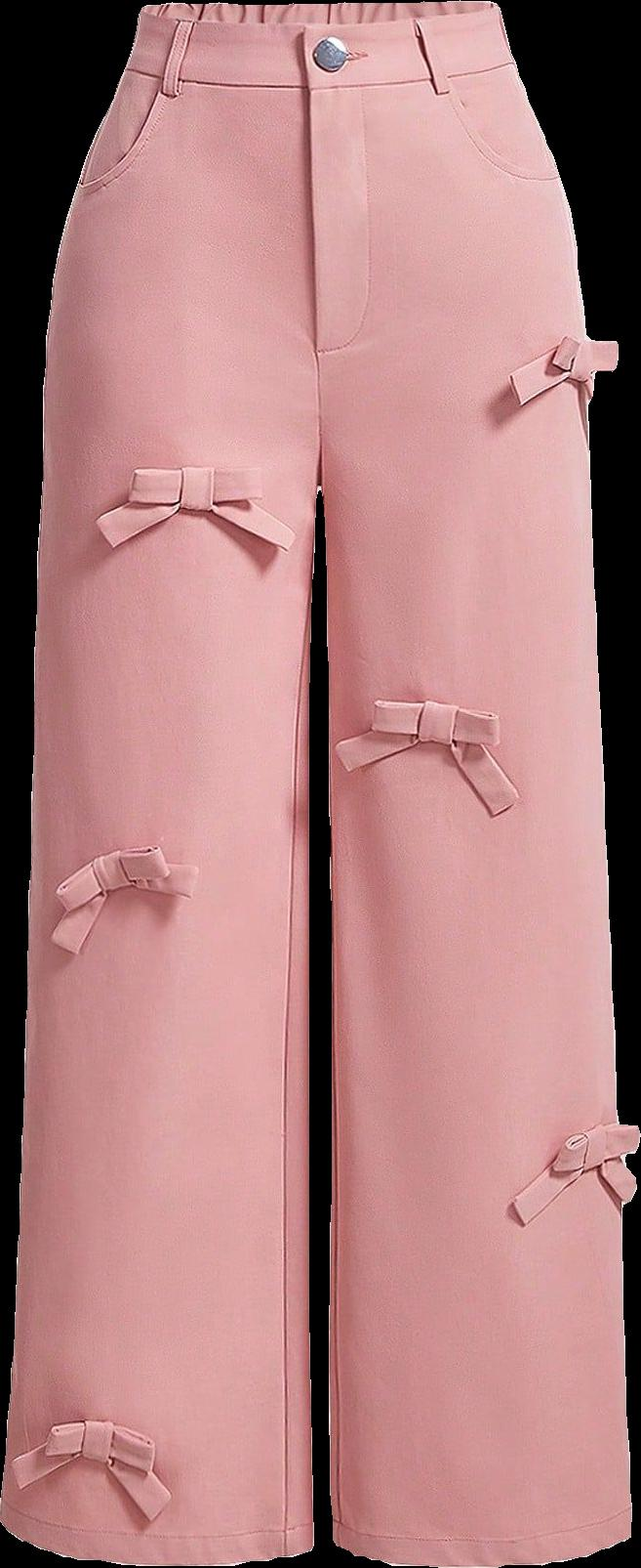Hemline: (0, 1515, 313, 1566), (327, 1528, 637, 1567)
Pantleg: (293, 2, 640, 1566), (0, 4, 319, 1563)
Waistline: (118, 50, 519, 102), (139, 0, 496, 28)
